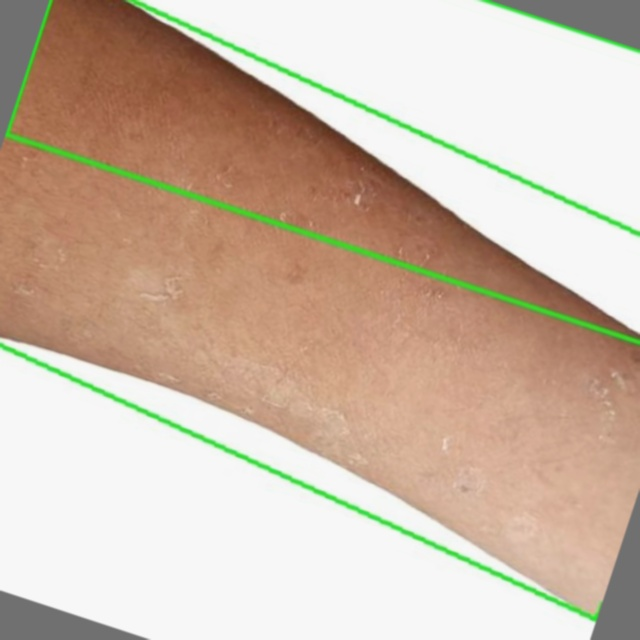Tinea Corporis: (0, 0, 639, 619), (6, 0, 639, 342)
